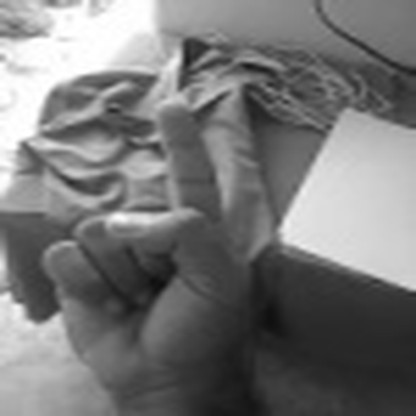d: (36, 95, 251, 415)
